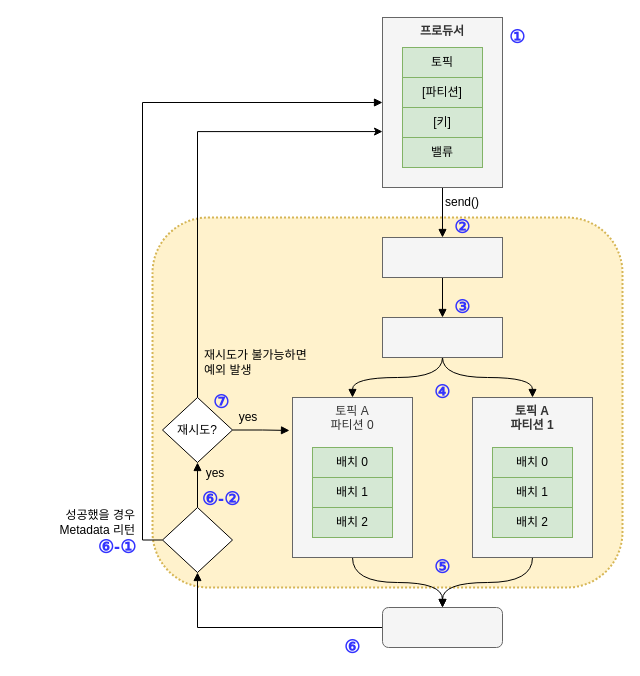
The diagram is 640 pixels wide and 676 high, and some of its shapes have lost their labels. Here are the shapes that lost their labels. From the top down, the centre of each, then its label:
At [442,257]: "시리얼라이저".
At [442,337]: "파티셔너".
At [197,539]: "실패?".
At [442,627]: "카프카 브로커".
